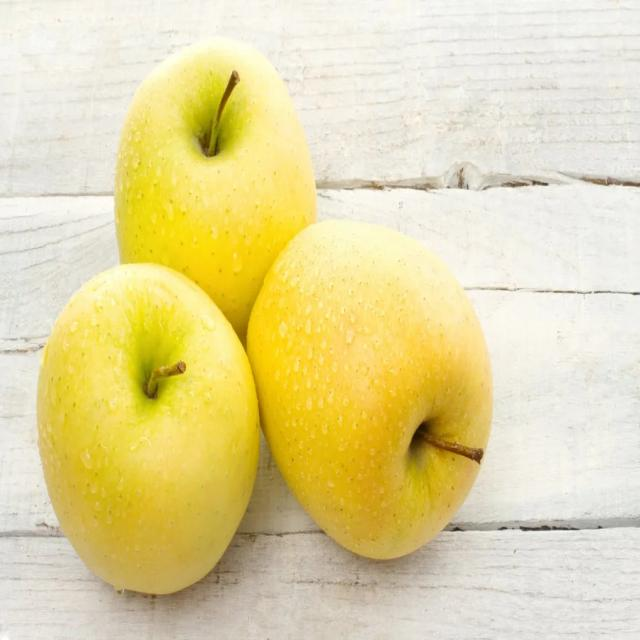Apple: (244, 220, 494, 563), (35, 263, 261, 598), (113, 38, 320, 344)
